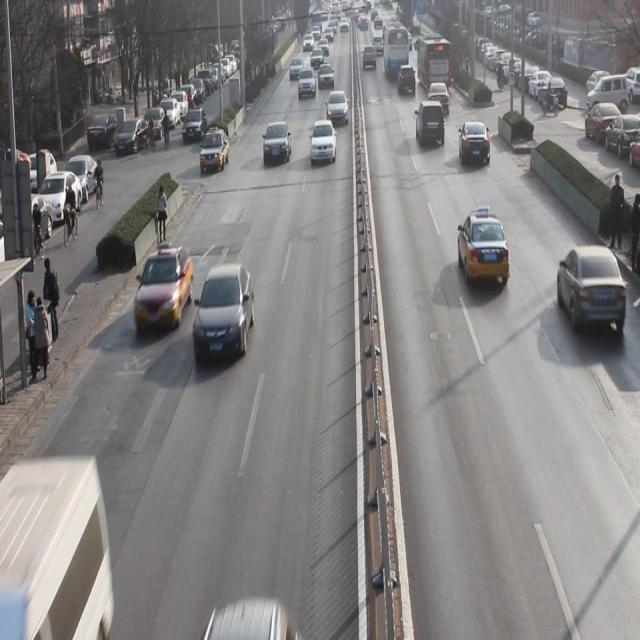car: (558, 246, 626, 337), (197, 268, 252, 360), (135, 250, 194, 328), (455, 210, 510, 288), (457, 119, 493, 170), (415, 101, 447, 148), (198, 124, 228, 172), (262, 116, 291, 165), (310, 118, 337, 170), (325, 88, 348, 122), (428, 78, 448, 114), (298, 68, 317, 99), (398, 64, 415, 97), (289, 54, 304, 80), (318, 64, 334, 88), (362, 47, 377, 69)
van: (416, 32, 450, 90)
